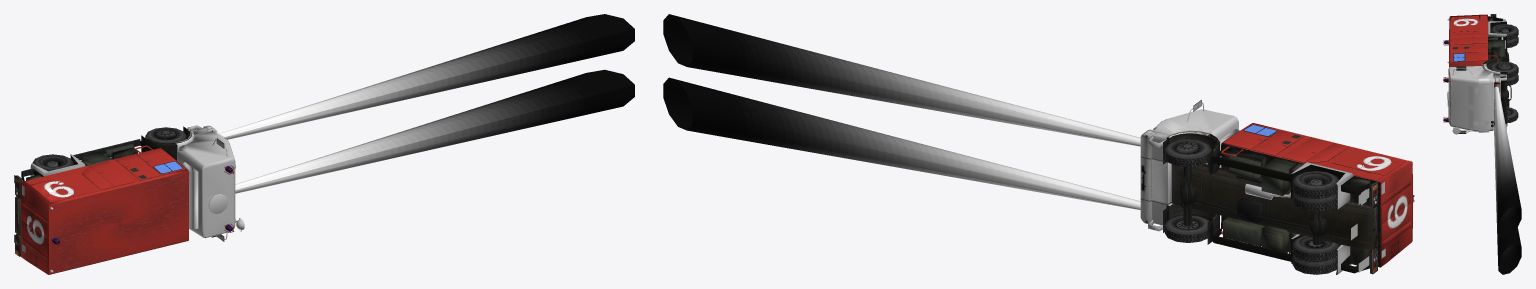
Rendered from benz2400.obj.
3 views of the same model, side by side, from view 1: azimuth 30°, elevation 25°; view 2: azimuth 150°, elevation 25°; view 3: azimuth 270°, elevation 25° (orthographic). The views are drawn at different scales.
Visible parts, largest first — view 1: licht, tank, kaba, rahmen1, tritt, rahmen2, kabi1, radvf, radhf; view 2: licht, rahmen1, tank, rahmen2, tritt, antrieb, radp, kaba, radhf, radvf; view 3: licht, kaba, tank, rahmen2, rahmen1, radvf, radhf, radp, antrieb, tritt, mhorn, details (+1 smaller).
Part boxes in pixels (x1=…): licht: x1=219, y1=14, x2=634, y2=193; tank: x1=21, y1=145, x2=188, y2=274; kaba: x1=14, y1=125, x2=235, y2=242; rahmen1: x1=15, y1=126, x2=194, y2=256; tritt: x1=21, y1=139, x2=157, y2=181; rahmen2: x1=81, y1=125, x2=226, y2=241; kabi1: x1=177, y1=147, x2=202, y2=237; radvf: x1=145, y1=127, x2=186, y2=143; radhf: x1=32, y1=154, x2=73, y2=171; licht: x1=663, y1=14, x2=1140, y2=209; rahmen1: x1=1163, y1=130, x2=1378, y2=274; tank: x1=1221, y1=123, x2=1412, y2=267; rahmen2: x1=1140, y1=100, x2=1296, y2=252; tritt: x1=1213, y1=144, x2=1372, y2=274; antrieb: x1=1142, y1=151, x2=1369, y2=245; radp: x1=1164, y1=150, x2=1339, y2=274; kaba: x1=1148, y1=102, x2=1369, y2=272; radhf: x1=1292, y1=171, x2=1339, y2=266; radvf: x1=1164, y1=139, x2=1211, y2=235; licht: x1=1494, y1=86, x2=1521, y2=274; kaba: x1=1447, y1=19, x2=1506, y2=132; tank: x1=1449, y1=14, x2=1497, y2=67; rahmen2: x1=1456, y1=40, x2=1504, y2=133; rahmen1: x1=1482, y1=14, x2=1509, y2=125; radvf: x1=1490, y1=61, x2=1517, y2=118; radhf: x1=1490, y1=24, x2=1518, y2=80; radp: x1=1490, y1=30, x2=1518, y2=122; antrieb: x1=1491, y1=47, x2=1511, y2=112; tritt: x1=1488, y1=16, x2=1506, y2=58; mhorn: x1=1443, y1=40, x2=1493, y2=127; details: x1=1447, y1=18, x2=1488, y2=125.
Size of the model in its own units: 2038 by 308 by 326.
